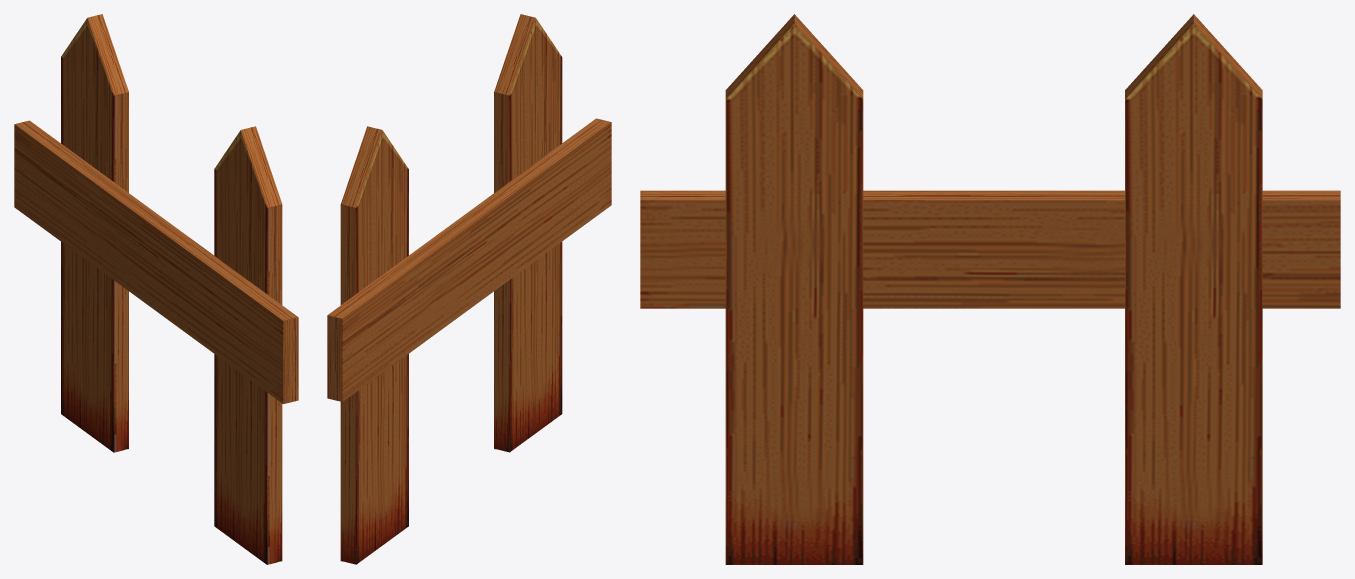
Rendered from brush_sheep1.fbx.
3 views of the same model, side by side, from view 1: azimuth 30°, elevation 25°; view 2: azimuth 150°, elevation 25°; view 3: azimuth 270°, elevation 25° (orthographic). The views are drawn at different scales.
Parts seen in each view (by area): view 1: brush_sheep1; view 2: brush_sheep1; view 3: brush_sheep1.
Part boxes in pixels (box(x1,y1,x2,y2)): brush_sheep1: box(14, 14, 298, 564); brush_sheep1: box(327, 14, 611, 564); brush_sheep1: box(640, 14, 1340, 564).
Size of the model in its own units: 18.64 by 233 by 273.
1 material, 1 textured.
